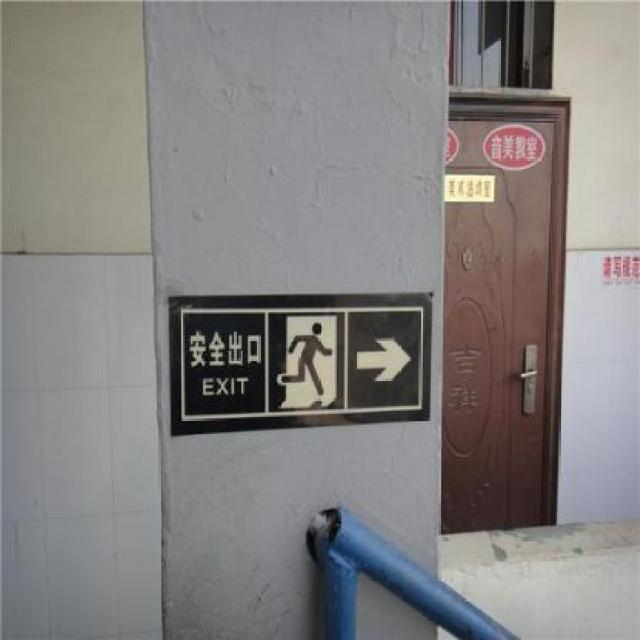exit_sign: (168, 292, 436, 430)
